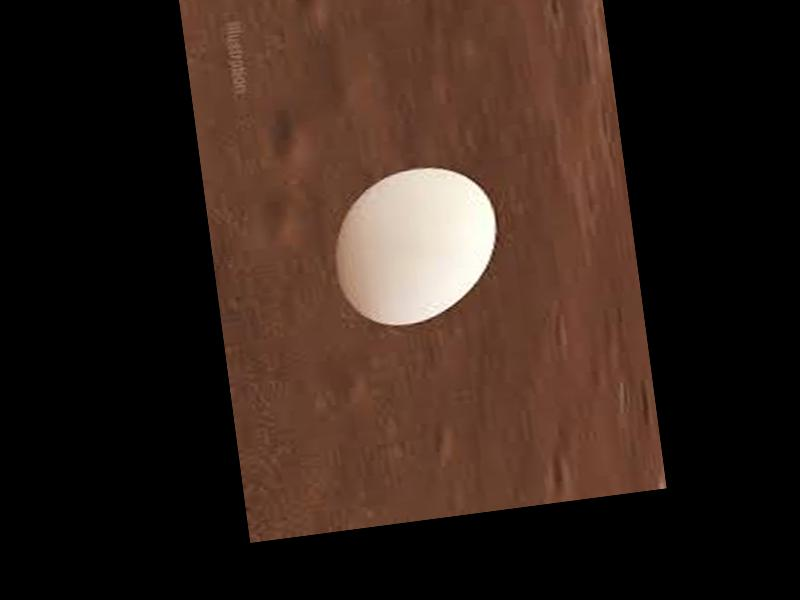Eggs: (325, 158, 507, 334)
